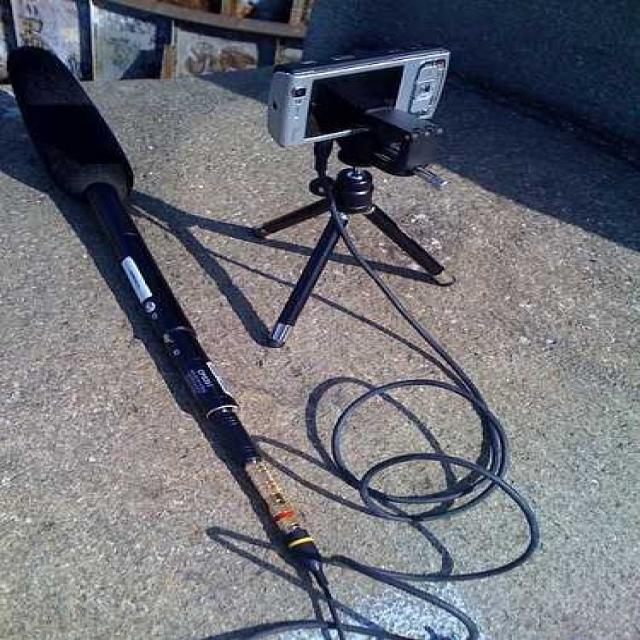microphone: (3, 41, 194, 380)
